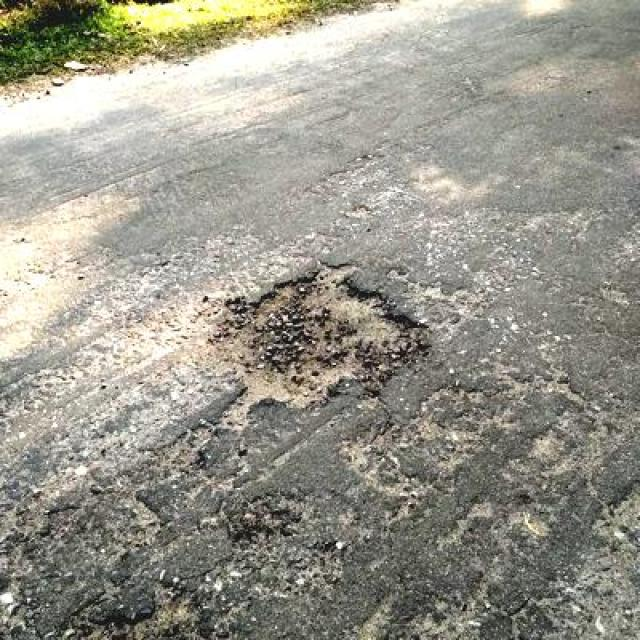pothole: (190, 258, 432, 411), (67, 584, 210, 638)
